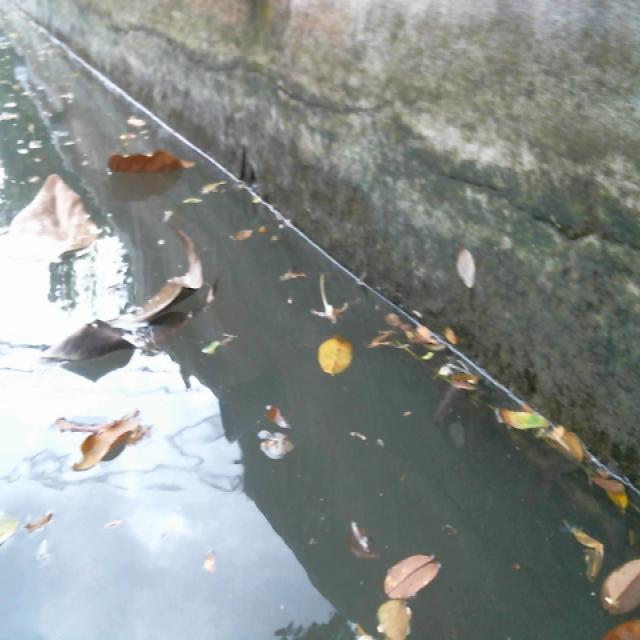Big-leaf: (46, 233, 208, 372), (0, 176, 109, 273), (41, 401, 149, 480), (102, 146, 204, 184)
Small-leaf: (384, 547, 446, 611), (588, 450, 640, 520), (310, 328, 360, 393), (570, 510, 613, 581), (342, 514, 382, 587), (484, 393, 551, 436), (545, 418, 599, 471), (262, 389, 295, 467), (606, 550, 640, 608), (378, 603, 418, 640), (119, 94, 146, 138), (604, 608, 640, 640), (231, 226, 259, 248)
